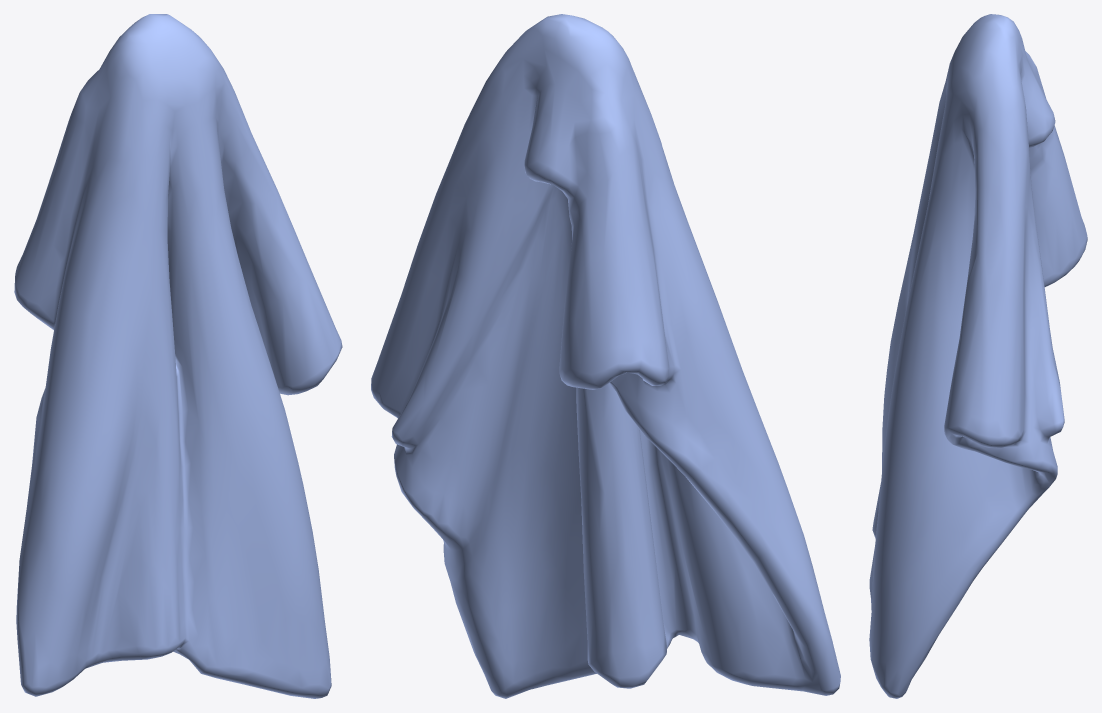
The model's file is towel01.fbx.
3 renders of one model, left to right at view 1: azimuth 30°, elevation 25°; view 2: azimuth 150°, elevation 25°; view 3: azimuth 270°, elevation 25°, orthographic. The views are drawn at different scales.
Parts seen in each view (by area): view 1: Group24205; view 2: Group24205; view 3: Group24205.
Part boxes in pixels (x1,y1,x2,y2): Group24205: (14,14,342,698); Group24205: (371,14,840,698); Group24205: (869,14,1087,698).
Bounding box in the file's own units: 5.87 × 10.37 × 3.26.
